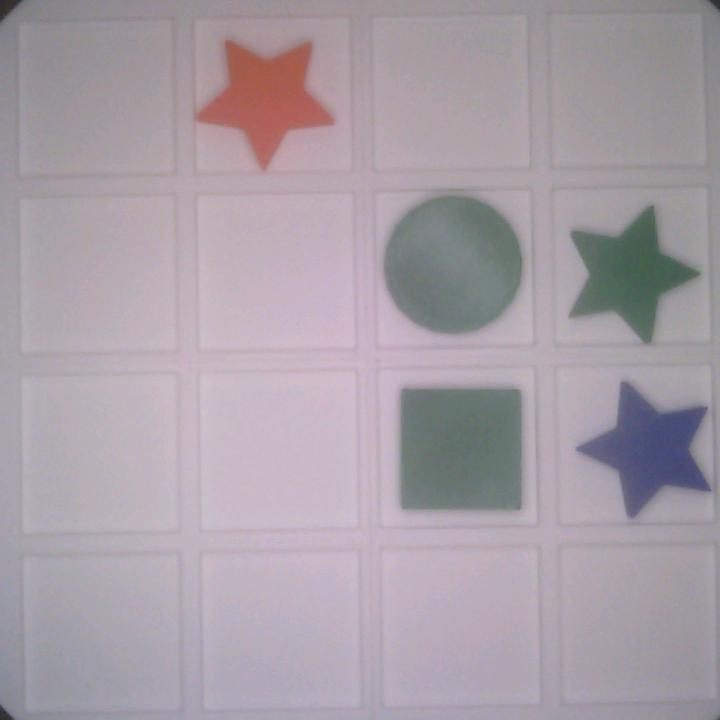Blue star: (575, 377, 711, 518)
Green circle: (378, 189, 528, 339)
Green square: (396, 379, 532, 516)
Green star: (561, 197, 701, 346)
Orange star: (191, 27, 330, 171)
